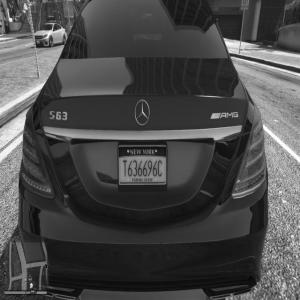Plate: (118, 145, 167, 184)
